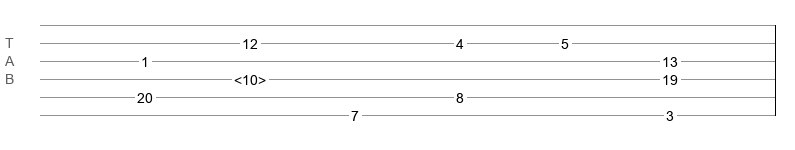1: (141, 54, 149, 64)
12: (242, 36, 258, 46)
13: (662, 54, 678, 64)
19: (662, 72, 678, 82)
20: (137, 90, 153, 100)
3: (666, 108, 674, 118)
4: (456, 36, 464, 46)
5: (561, 36, 569, 46)
7: (351, 108, 359, 118)
8: (456, 90, 464, 100)
harmonic: (234, 72, 266, 82)
